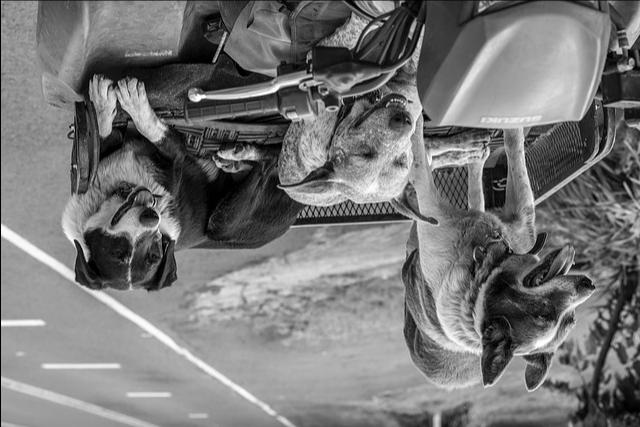Non_Gorille: (44, 5, 604, 406)
